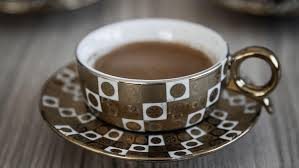kahve: (39, 17, 282, 163)
